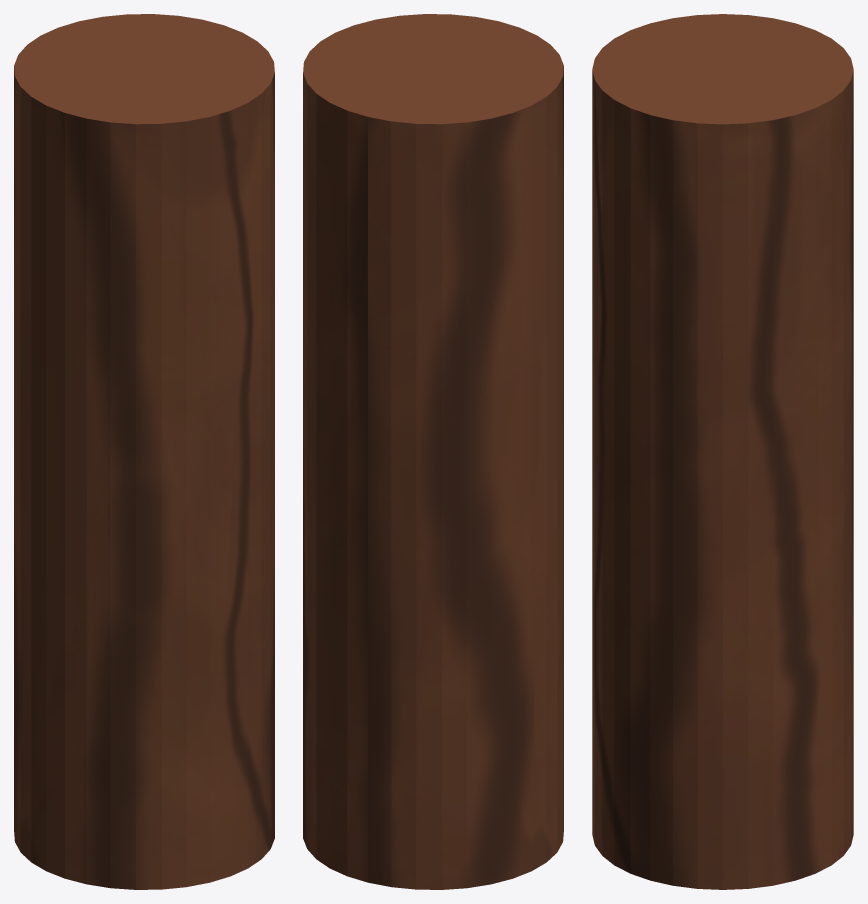
File: log.glb
3 renders of one model, left to right at view 1: azimuth 30°, elevation 25°; view 2: azimuth 150°, elevation 25°; view 3: azimuth 270°, elevation 25°, orthographic.
Visible parts, largest first — view 1: Cylinder; view 2: Cylinder; view 3: Cylinder.
Boxes of the visible parts, left/top/right/bottom form: Cylinder: left=14, top=14, right=274, bottom=889; Cylinder: left=303, top=14, right=563, bottom=889; Cylinder: left=592, top=14, right=853, bottom=889.
Size of the model in its own units: 0.1496 by 0.4836 by 0.1496.
1 material, 1 textured.
